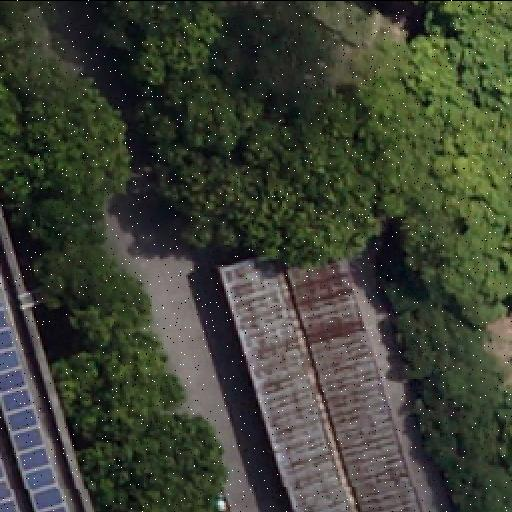solar-panel: (0, 294, 68, 512), (1, 448, 23, 512)
